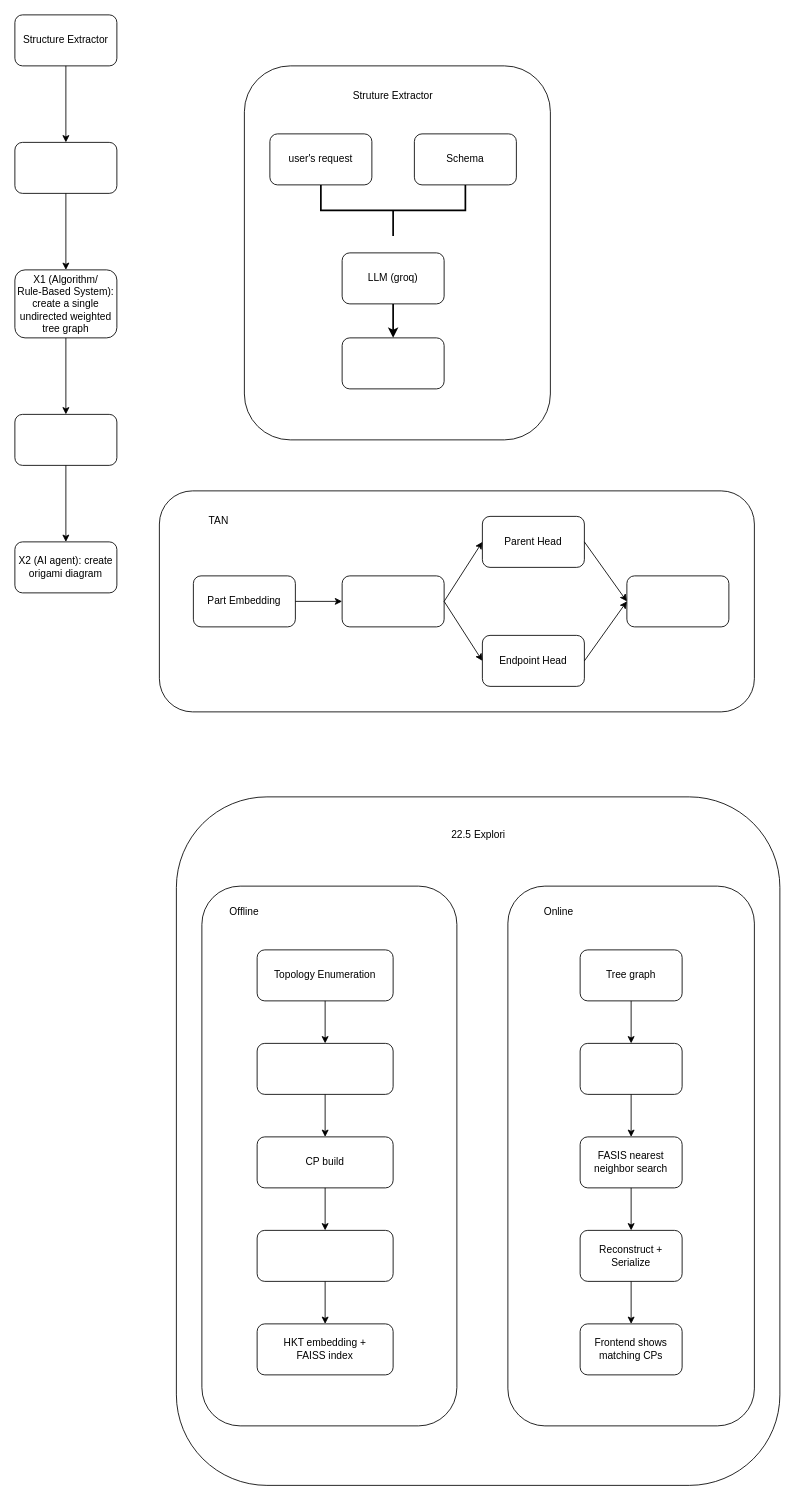
The diagram is 795 pixels wide and 1500 high, and some of its shapes have lost their labels. Here are the shapes that lost their labels. From the top down, the centre of each, then its label:
At (65,167): "Tree Attachment Network".
At (392,363): "structure.json".
At (65,439): "Treemaker/ 22.5 explori".
At (392,601): "Context Encoder".
At (677,601): "Tree Relation".
At (324,1068): "Tiling realization".
At (630,1068): "Compute HKT of the tree".
At (324,1255): "Fold and Slice into Tree".
